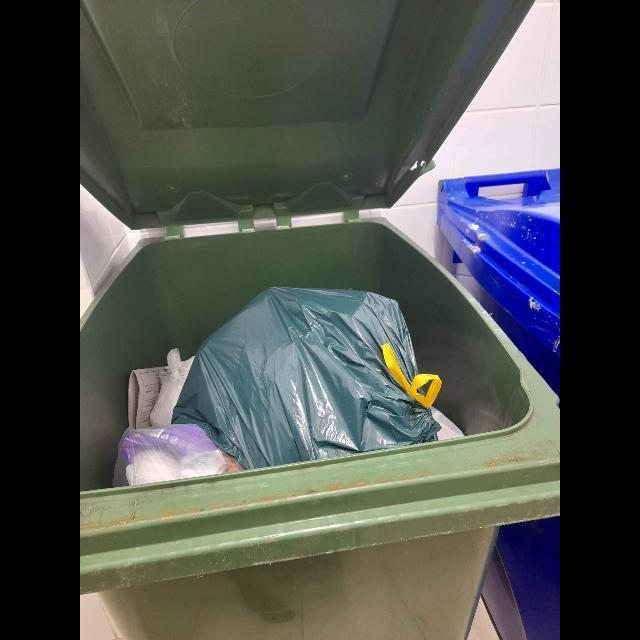paper: (128, 367, 165, 430)
plastic: (171, 287, 443, 471), (112, 424, 246, 488), (150, 348, 195, 427)
